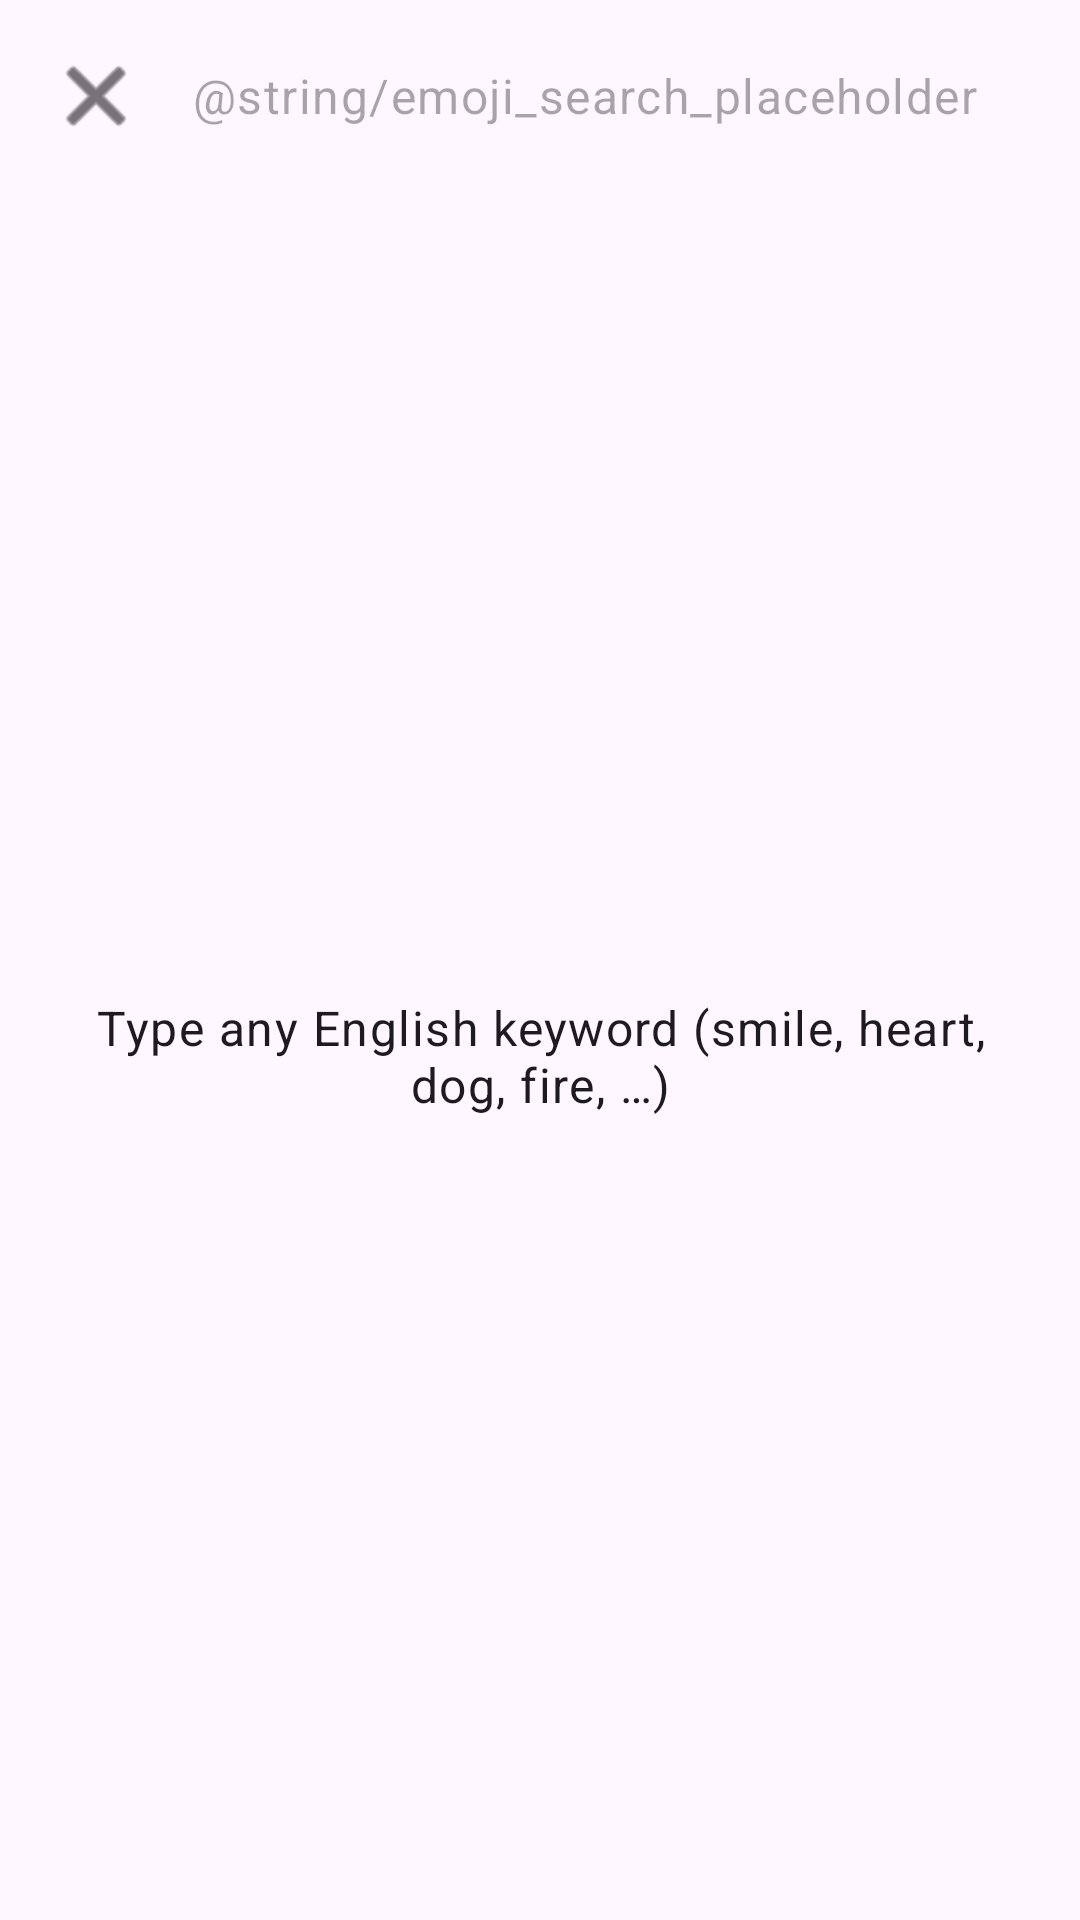

Where to tap for icons on this 1080x1920 app screen, as (x=x, y=y):
close clear cancel: (x=96, y=96)
